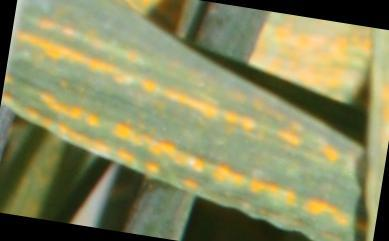Wheat: (25, 86, 335, 225), (19, 21, 310, 156)
